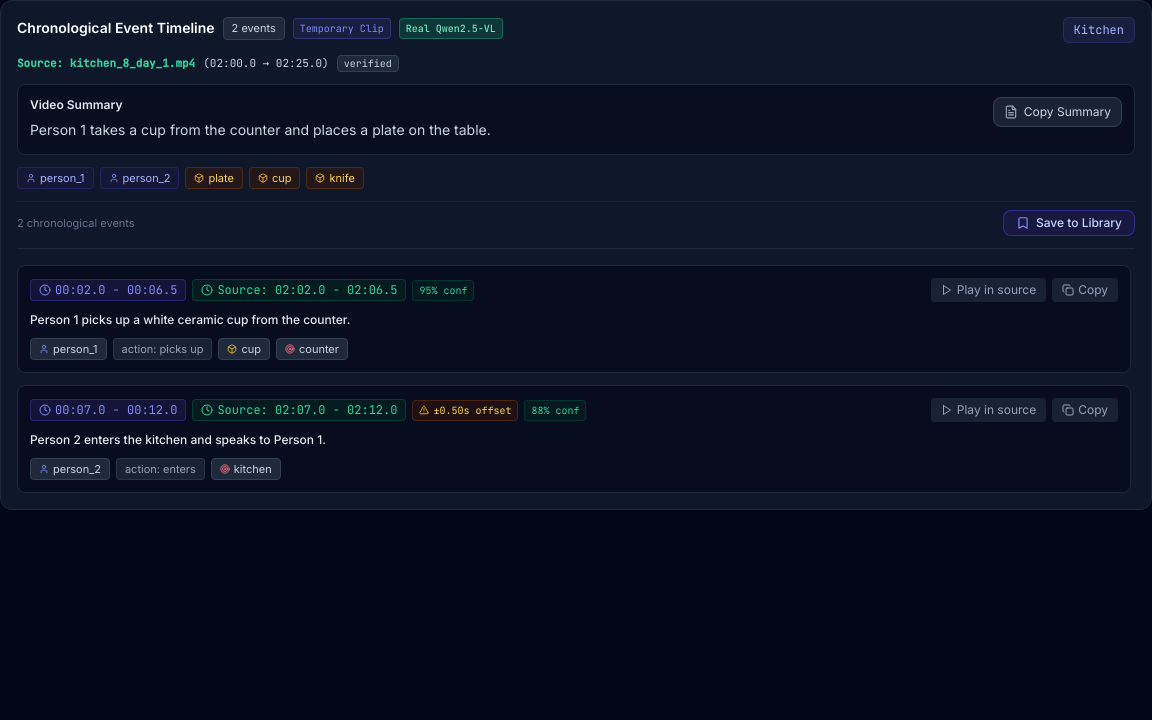
Scenario: Task 5: Video Understanding, QA, Review and Export Test Suite › 1. Video Understanding Workspace & Copy/Download Actions › allows explicit saving to persistent storage for temporary analyses
Step 1. Click the button with test id "save-analysis-persistent-btn" → (1069, 223), box [1003,210,1135,236]
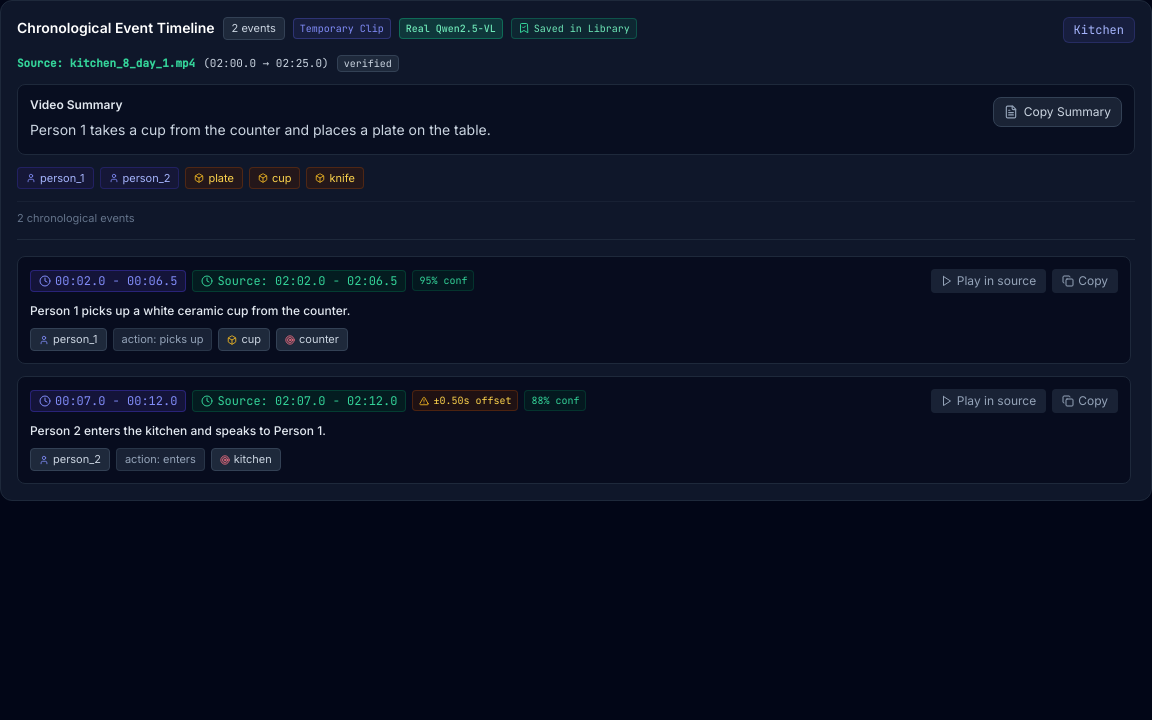
Check: the element with test id "analysis-persistent-badge" is shown, box [511,18,637,39]
